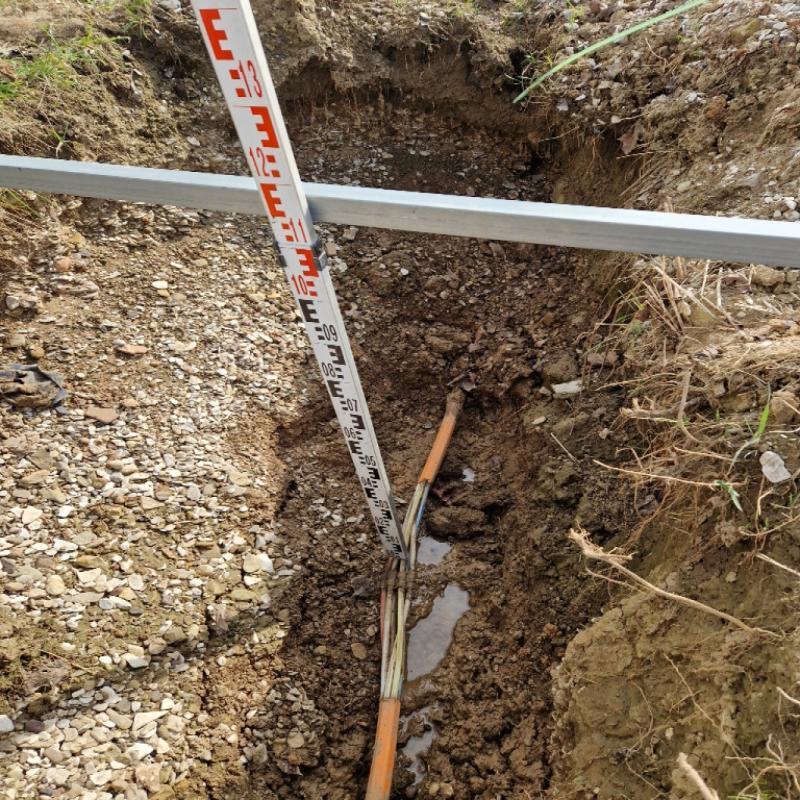Orang-Speednetrohrchen: (364, 414, 457, 798)
